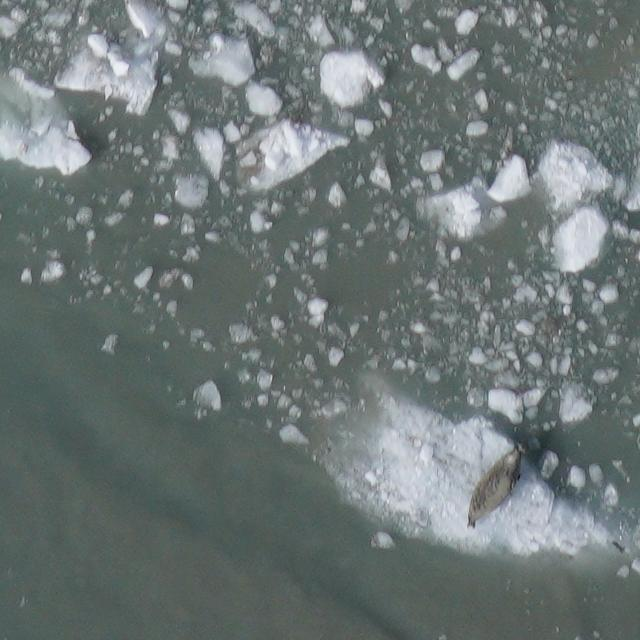seal: (446, 442, 542, 536)
